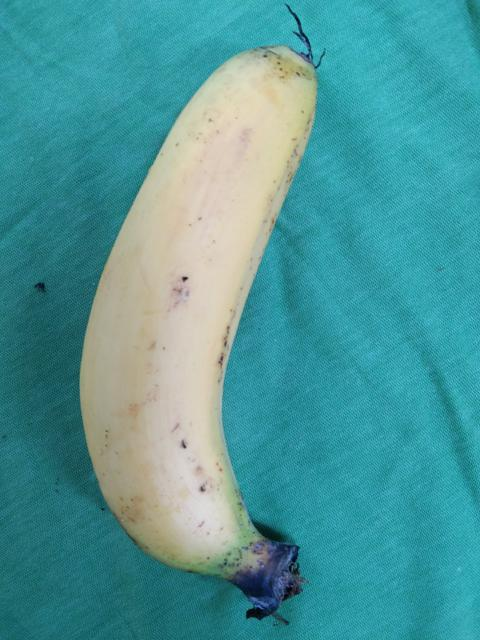freshripe: (67, 31, 387, 582)
